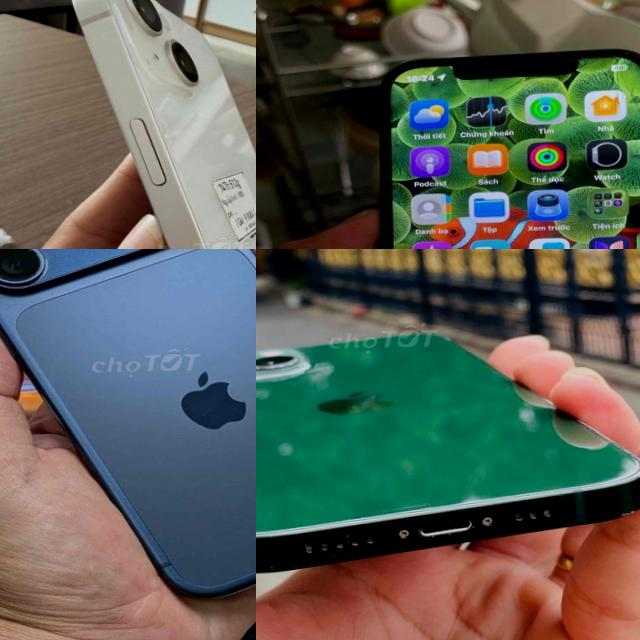physical_damage: (590, 69, 640, 124), (559, 56, 640, 77), (503, 69, 548, 93), (479, 87, 502, 98)
scratch: (545, 394, 640, 502), (256, 552, 285, 574)
